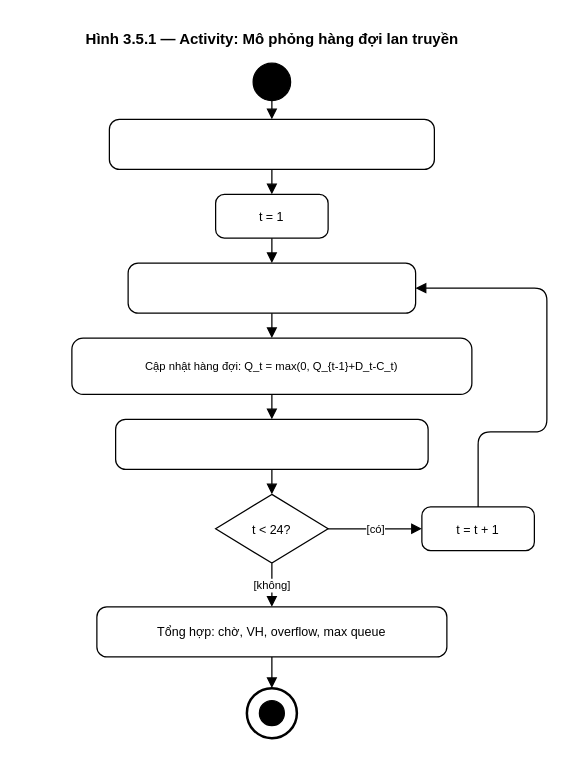
Image size: 579x760. Some labels were removed from this diagram. Here are the shapes that lost their labels. From the top down, the centre of each, then its label:
At point 271,143: "Nhận cầu khách và số chuyến theo giờ".
At point 271,287: "Tính sức chở từ trips × capacity".
At point 271,443: "Tích lũy thời gian chờ hành khách".
